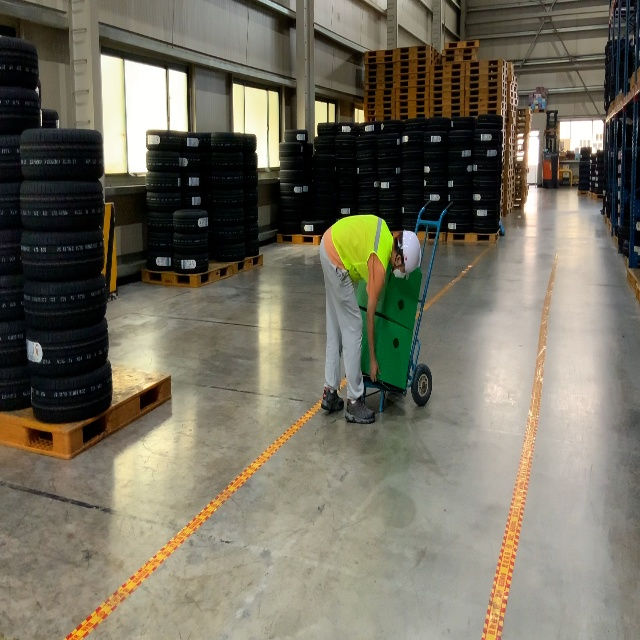Box: (355, 262, 423, 332), (359, 307, 414, 391)
Worker: (319, 213, 422, 426)
